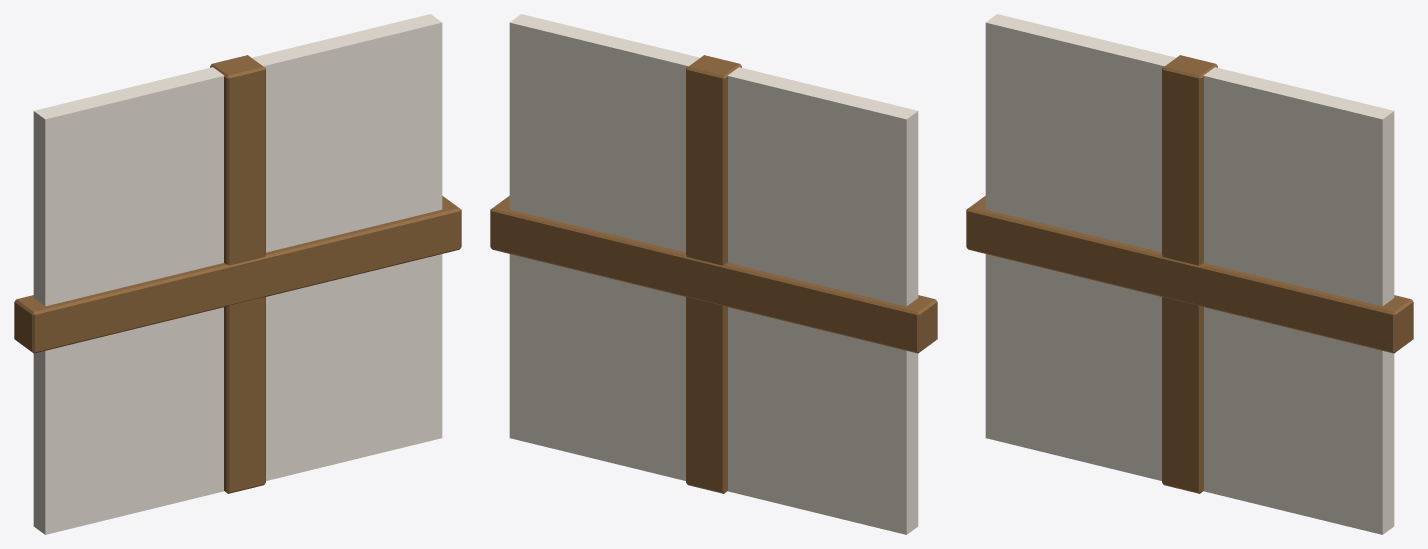
The model's file is WallCross.fbx.
3 views of the same model, side by side, from view 1: azimuth 30°, elevation 25°; view 2: azimuth 150°, elevation 25°; view 3: azimuth 330°, elevation 25° (orthographic).
Parts seen in each view (by area): view 1: Cube.063, Cube.077, Cube.073; view 2: Cube.063, Cube.077, Cube.073; view 3: Cube.063, Cube.077, Cube.073.
Part boxes in pixels (bbox=[...]): Cube.063: bbox=[33, 14, 442, 534]; Cube.077: bbox=[14, 196, 461, 353]; Cube.073: bbox=[210, 55, 265, 493]; Cube.063: bbox=[509, 14, 918, 534]; Cube.077: bbox=[490, 196, 937, 353]; Cube.073: bbox=[686, 55, 741, 493]; Cube.063: bbox=[985, 14, 1394, 534]; Cube.077: bbox=[966, 196, 1413, 353]; Cube.073: bbox=[1162, 55, 1217, 493].
Bounding box in the file's own units: 216 × 201 × 17.27.
